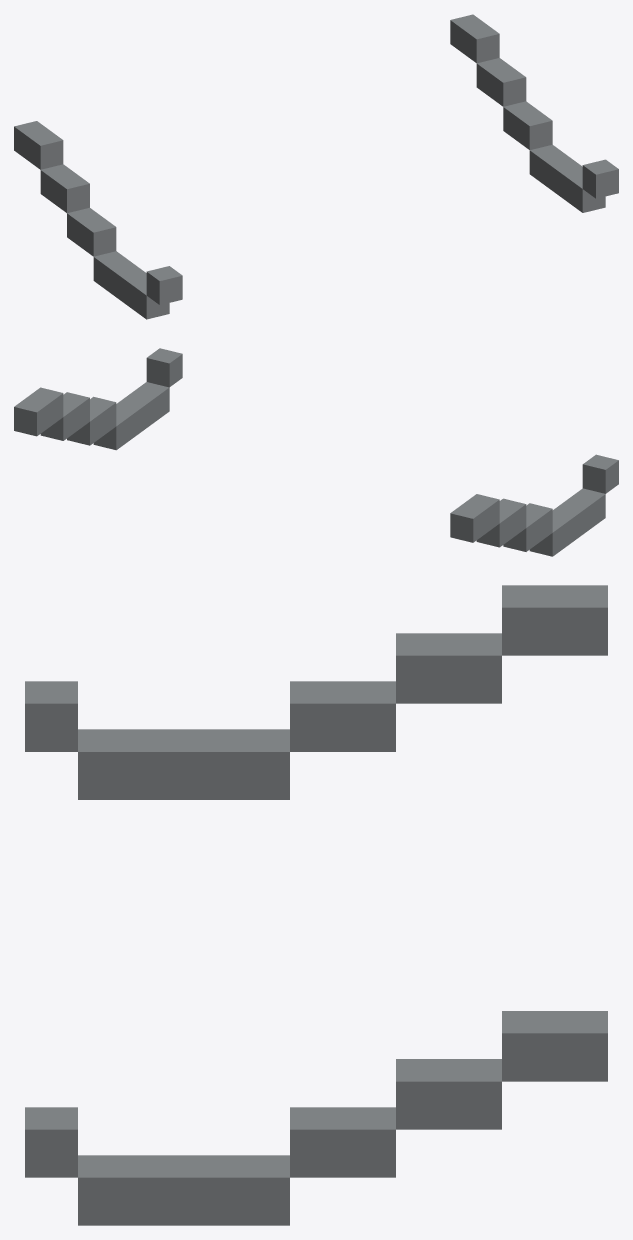
Rendered from Bag3.fbx.
3 views of the same model, one above another, from view 1: azimuth 30°, elevation 25°; view 2: azimuth 150°, elevation 25°; view 3: azimuth 270°, elevation 25° (orthographic). The views are drawn at different scales.
Visible parts, largest first — view 1: Bag3; view 2: Bag3; view 3: Bag3.
Boxes of the visible parts, x1=… form: Bag3: x1=14, y1=14, x2=618, y2=319; Bag3: x1=14, y1=348, x2=618, y2=556; Bag3: x1=25, y1=585, x2=607, y2=1225.
Bounding box in the file's own units: 100 × 20 × 55.
